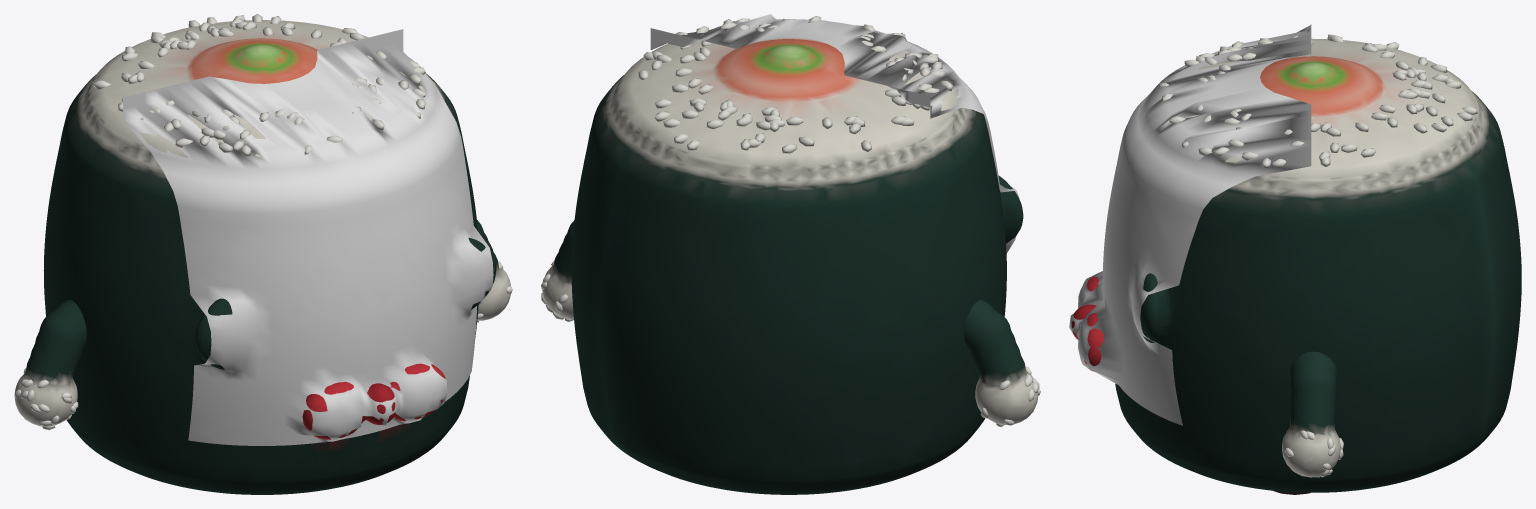
Rendered from folk2_maki.glb.
3 renders of one model, left to right at view 1: azimuth 30°, elevation 25°; view 2: azimuth 150°, elevation 25°; view 3: azimuth 270°, elevation 25°, orthographic. The views are drawn at different scales.
Visible parts, largest first — view 1: maki_face, maki_body, maki_arm_l, maki_arm_r; view 2: maki_body, maki_face, maki_arm_l, maki_arm_r; view 3: maki_body, maki_face, maki_arm_r.
Boxes of the visible parts, box(x1,y1,x2,y2) form: maki_face: box(123, 29, 493, 445); maki_body: box(43, 14, 496, 494); maki_arm_l: box(14, 299, 86, 430); maki_arm_r: box(477, 220, 512, 322); maki_body: box(571, 16, 1023, 494); maki_face: box(650, 14, 1019, 253); maki_arm_l: box(964, 300, 1040, 426); maki_arm_r: box(541, 220, 574, 321); maki_body: box(1071, 34, 1521, 492); maki_face: box(1069, 24, 1311, 425); maki_arm_r: box(1282, 351, 1343, 477).
Bounding box in the file's own units: 1.2 × 0.9489 × 0.9996.
